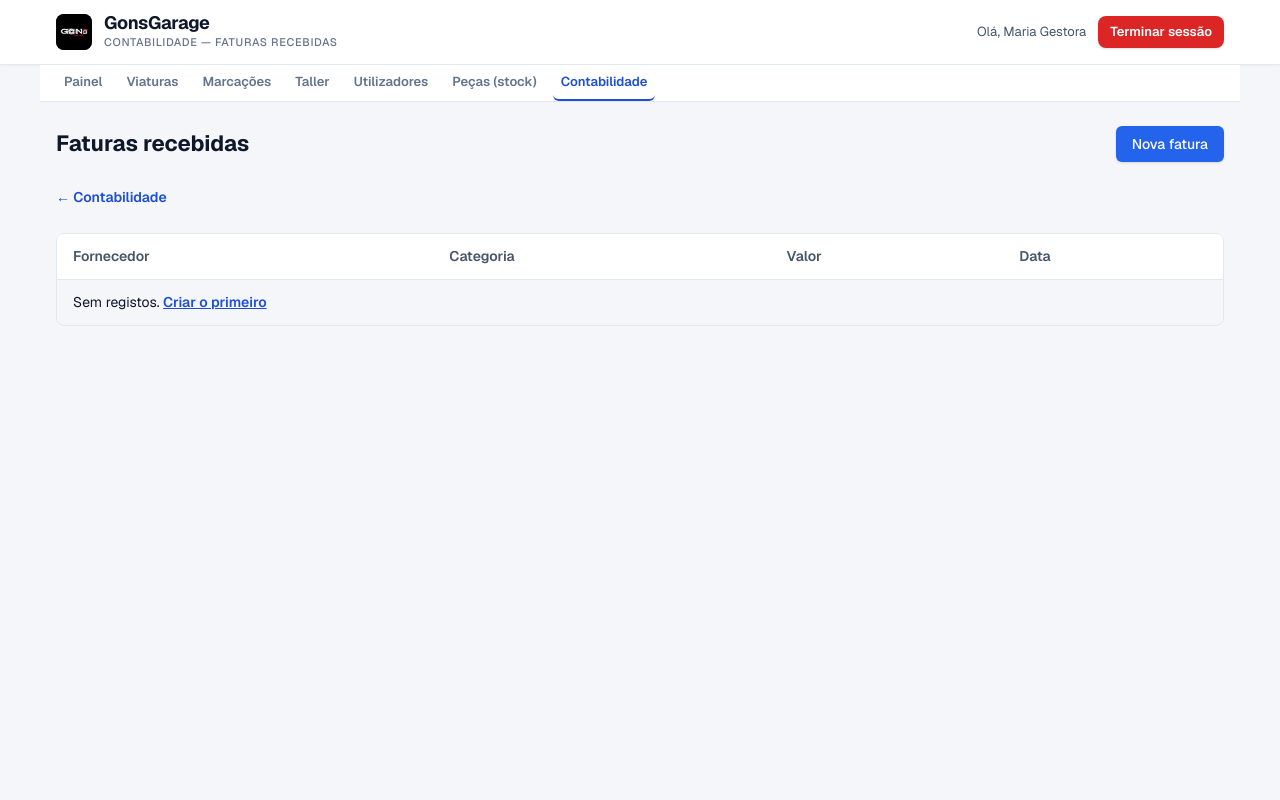
Scenario: ReceivedInvoicesListPage create modal › opens the create dialog from the empty-state CTA
Click the button "Criar o primeiro" at (215, 302), box [163, 292, 267, 312]
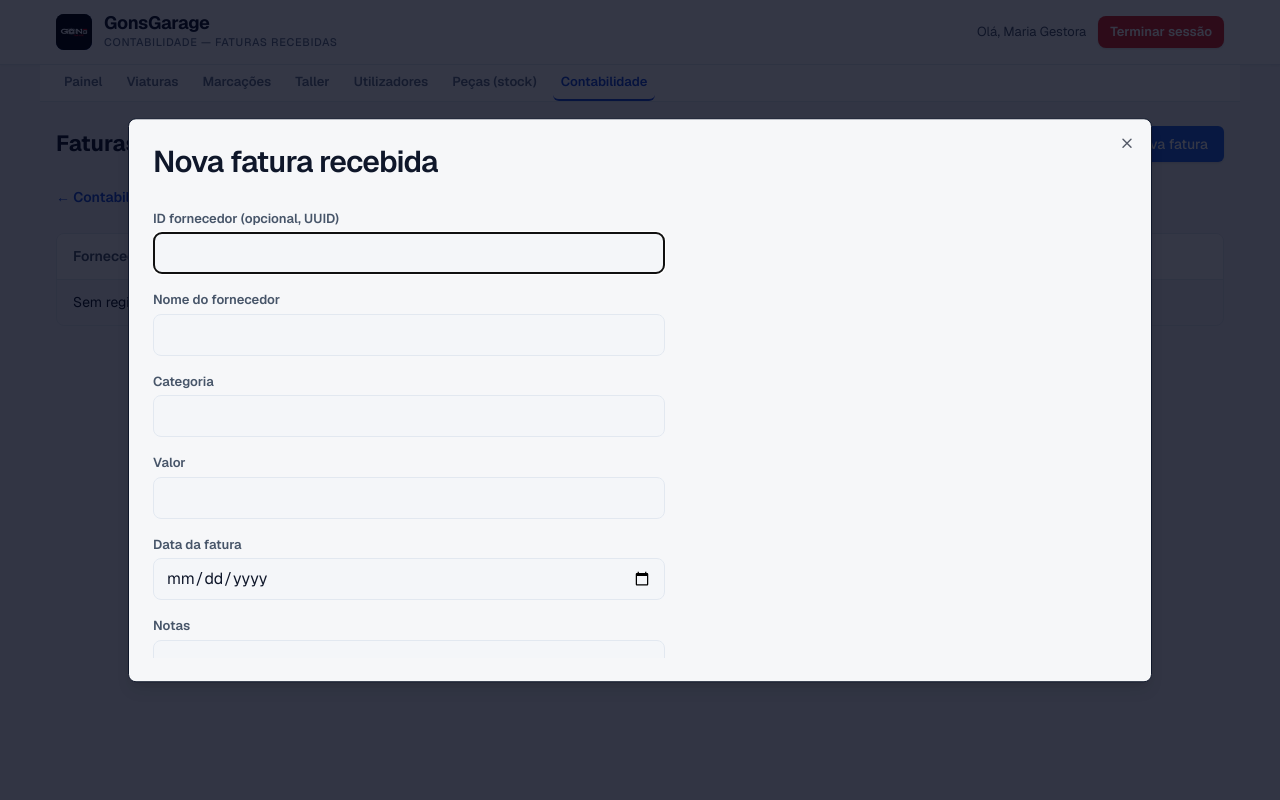
Check: the dialog is shown, box [128, 118, 1152, 682]
